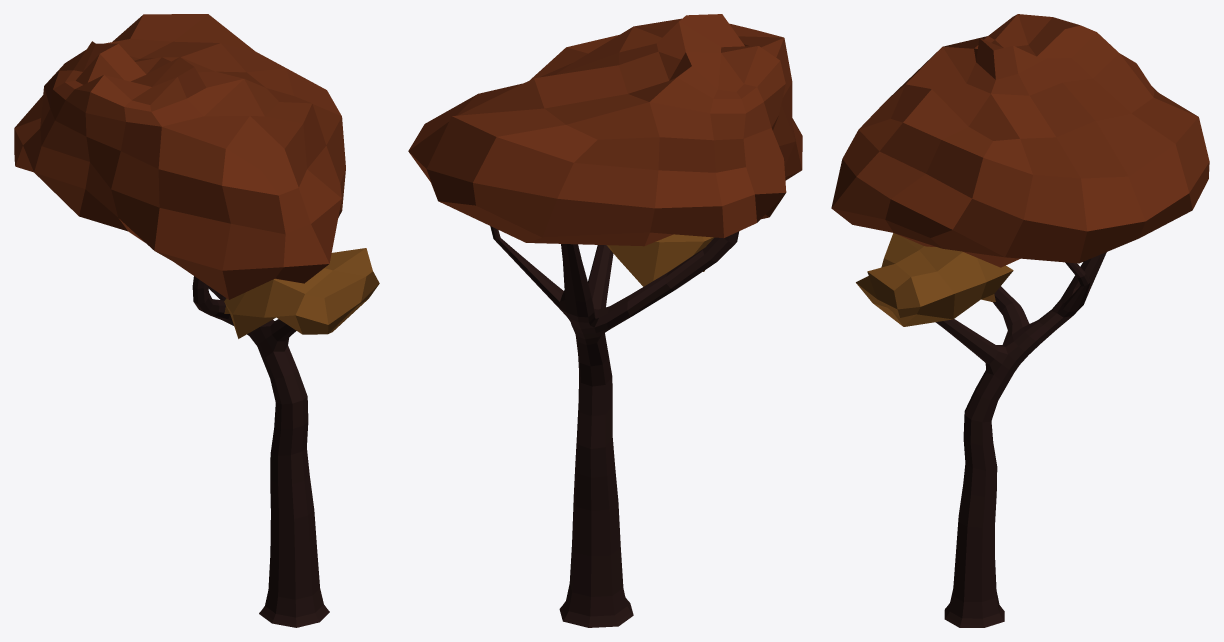
File: CommonTree_Autumn_4.obj
3 views of the same model, side by side, from view 1: azimuth 30°, elevation 25°; view 2: azimuth 150°, elevation 25°; view 3: azimuth 270°, elevation 25° (orthographic). The views are drawn at different scales.
Parts seen in each view (by area): view 1: CommonTree_Autumn_4_Cube.098; view 2: CommonTree_Autumn_4_Cube.098; view 3: CommonTree_Autumn_4_Cube.098.
Part boxes in pixels (<box>): CommonTree_Autumn_4_Cube.098: <box>14,14,379,627</box>; CommonTree_Autumn_4_Cube.098: <box>408,14,802,627</box>; CommonTree_Autumn_4_Cube.098: <box>831,14,1209,627</box>.
Bounding box in the file's own units: 1.58 × 2.78 × 1.8.
